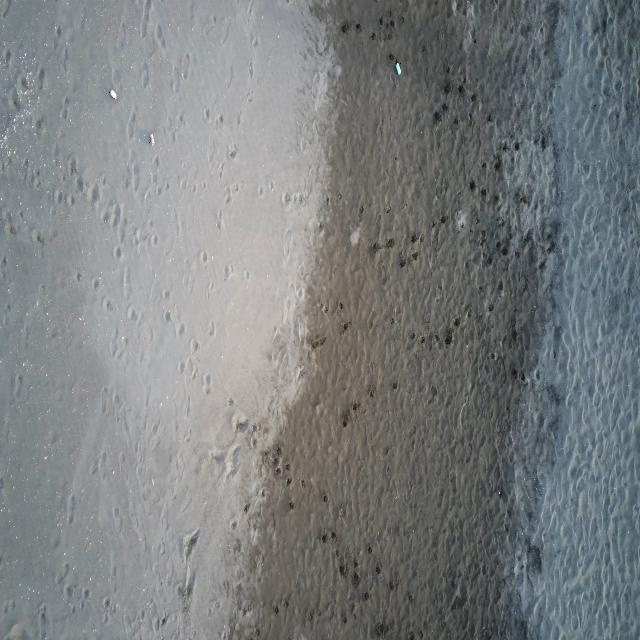tin-and-aluminum-cans: (109, 90, 116, 102), (395, 63, 401, 76), (149, 134, 155, 147)
